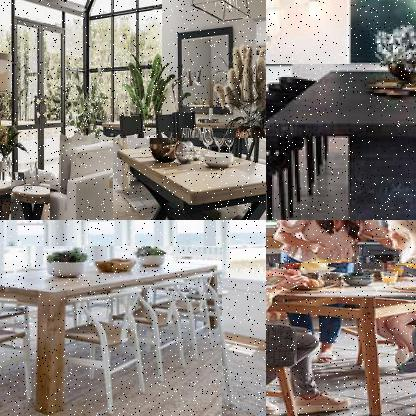table: (0, 246, 224, 415), (266, 64, 415, 219), (266, 263, 415, 415), (113, 138, 265, 219), (10, 180, 52, 219), (0, 172, 25, 219)
